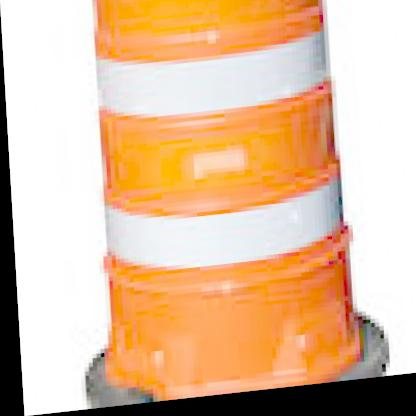obstacle: (75, 0, 344, 409)
